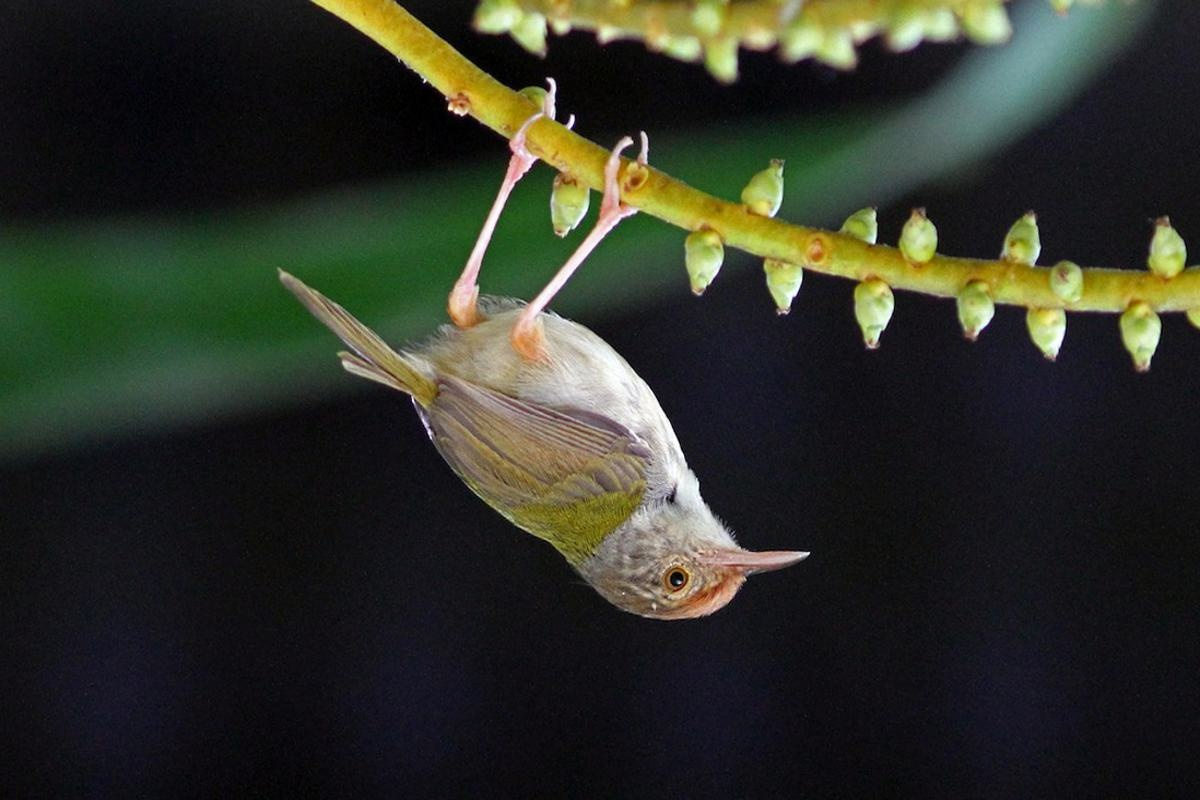tailorbird: (247, 173, 831, 655)
